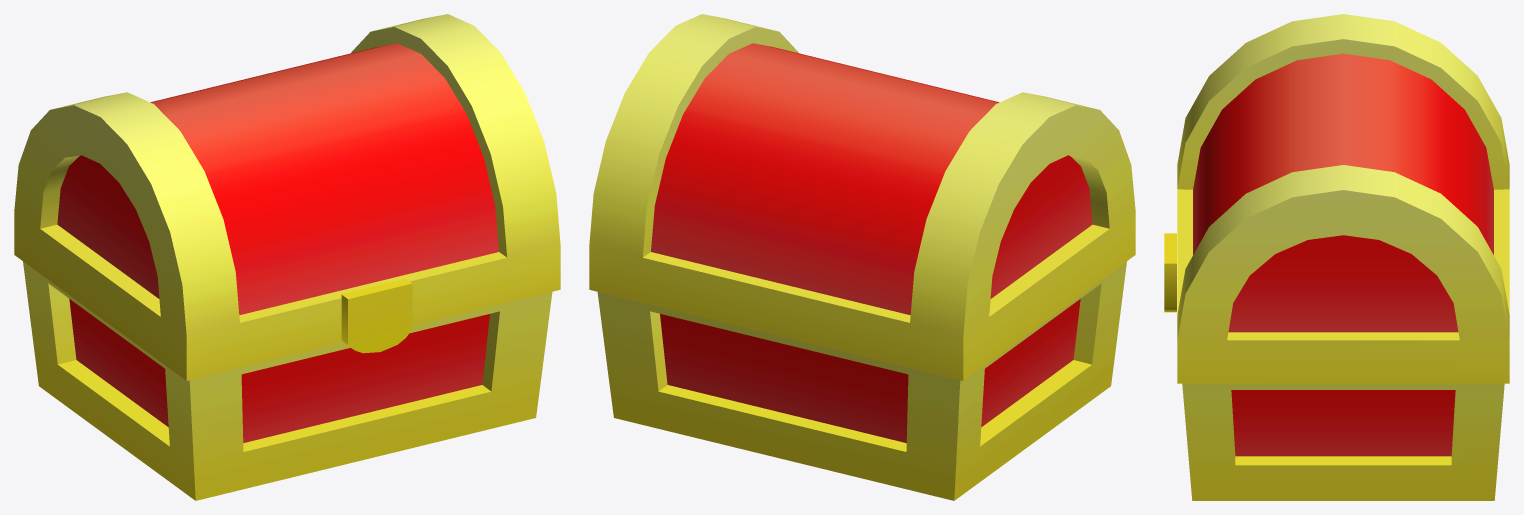
File: Chest.fbx
The picture shows the model from 3 angles, left to right: view 1: azimuth 30°, elevation 25°; view 2: azimuth 150°, elevation 25°; view 3: azimuth 270°, elevation 25°; orthographic projection. The views are drawn at different scales.
Parts seen in each view (by area): view 1: chest8, chest9; view 2: chest8, chest9; view 3: chest8, chest9.
Part boxes in pixels (left/top/right/bottom): chest8: left=14, top=14, right=560, bottom=380; chest9: left=23, top=261, right=552, bottom=500; chest8: left=589, top=14, right=1135, bottom=380; chest9: left=597, top=261, right=1126, bottom=500; chest8: left=1164, top=14, right=1509, bottom=383; chest9: left=1182, top=383, right=1504, bottom=500.
Size of the model in its own units: 1.65 by 1.4 by 1.37.
